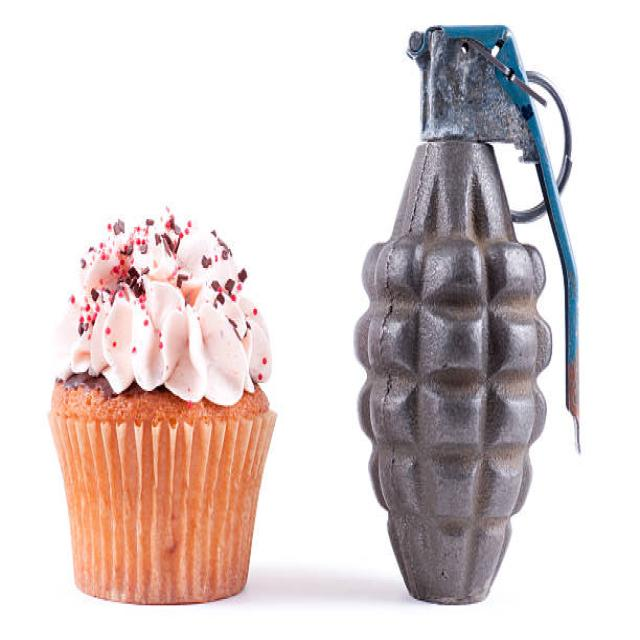grenade: (347, 12, 593, 609)
